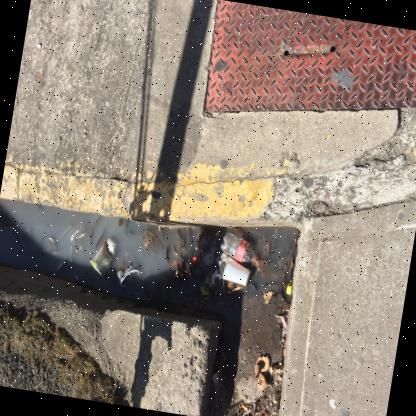Cigarette: (241, 404, 247, 410)
Clear plastic bottle: (220, 232, 260, 262)
Disposable plastic cup: (89, 236, 118, 276), (222, 256, 250, 286), (116, 252, 139, 287)
Plastic bottle cap: (286, 283, 291, 294), (191, 256, 197, 265)
Plastic lid: (44, 237, 56, 253)
Plastic straw: (53, 224, 71, 243)
Single-use carrier bag: (197, 231, 229, 290)
